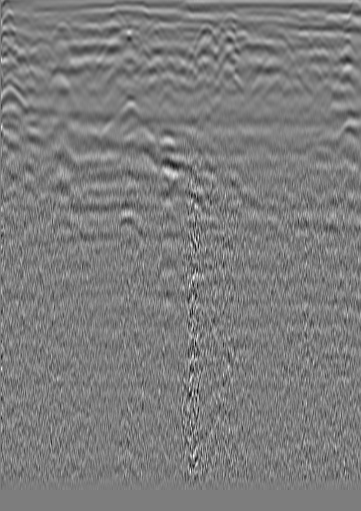가스: (110, 207, 149, 241)
상수: (29, 33, 49, 53)
오수: (311, 25, 331, 45)
우수: (168, 23, 188, 43)
